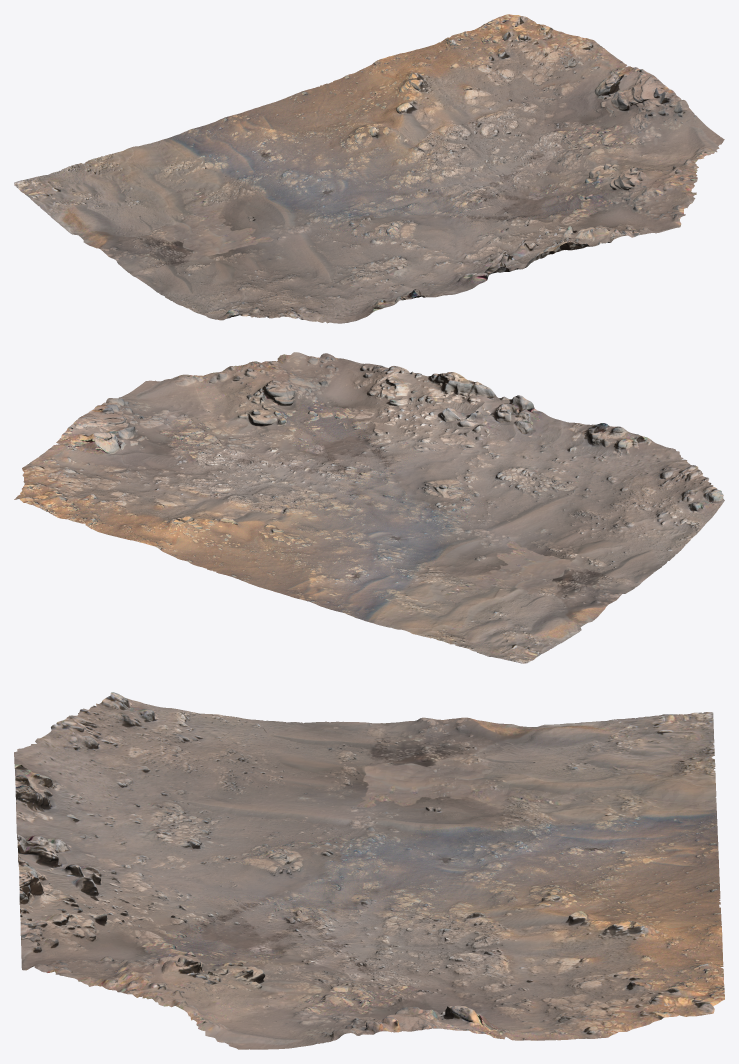
3 views of the same model, one above another, from view 1: azimuth 30°, elevation 25°; view 2: azimuth 150°, elevation 25°; view 3: azimuth 270°, elevation 25° (orthographic). The views are drawn at different scales.
Parts seen in each view (by area): view 1: m4_site; view 2: m4_site; view 3: m4_site.
Part boxes in pixels (x1,y1,x2,y2): m4_site: (14,14,724,323); m4_site: (14,352,724,663); m4_site: (14,692,724,1049).
Size of the model in its own units: 30.91 by 24.24 by 2.98.
3 materials, 3 textured.
